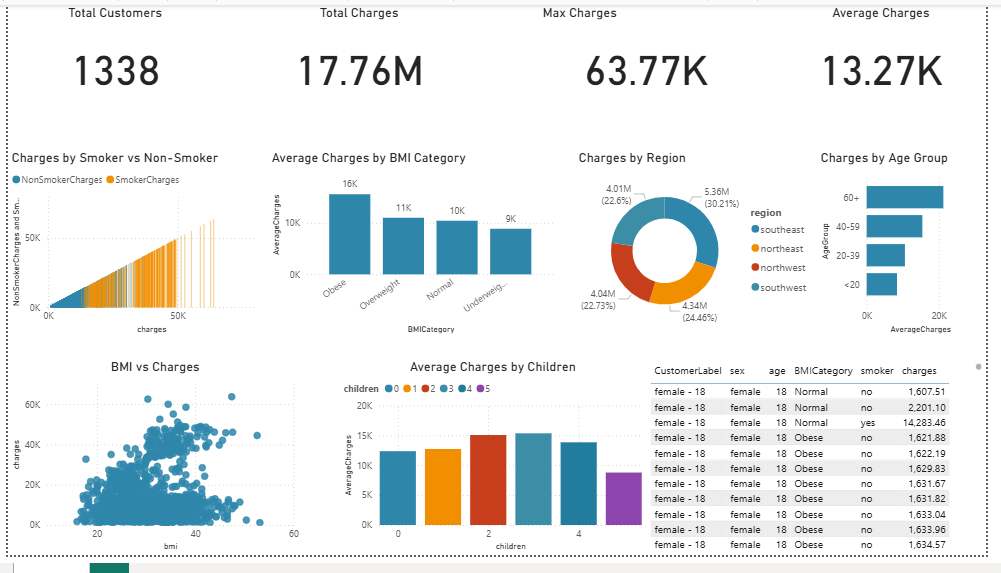

Layout of this report page (visuals, bound fields, positions):
{"tool":"powerbi","page":{"name":"Page 1","canvas":[1280,720],"ordinal":0},"visuals":[{"type":"card","title":"Total Customers","fields":{"Values":["insurance.TotalCustomers"]},"box":[0,0,280.8,139.7],"z":0},{"type":"card","title":"Total Charges","fields":{"Values":["insurance.TotalCharges"]},"box":[318.9,0,280.8,138.2],"z":1000},{"type":"card","title":"Max Charges","fields":{"Values":["insurance.MaxCharges"]},"box":[695.4,0,280.8,139.7],"z":2000},{"type":"card","fields":{"Values":["insurance.smoking"]},"box":[991.3,0,243.4,139.7],"z":3000},{"type":"card","title":"Average Charges","fields":{"Values":["insurance.AverageCharges"]},"box":[1021,0,243.4,139.7],"z":4000},{"type":"clusteredColumnChart","title":"Charges by Smoker vs Non-Smoker","fields":{"Category":["insurance.charges"],"Y":["insurance.NonSmokerCharges","insurance.SmokerCharges"]},"box":[0,190.1,339.8,244.8],"z":5000},{"type":"columnChart","title":"Average Charges by BMI Category","fields":{"Category":["insurance.BMICategory"],"Y":["insurance.AverageCharges"]},"box":[339.8,190.1,380.2,244.8],"z":6000},{"type":"donutChart","title":"Charges by Region","fields":{"Category":["insurance.region"],"Y":["insurance.TotalCharges"]},"box":[741.6,190.1,316.8,244.8],"z":7000},{"type":"barChart","title":"Charges by Age Group","fields":{"Category":["insurance.AgeGroup"],"Y":["insurance.AverageCharges"]},"box":[1058.4,190.1,221.8,244.8],"z":8000},{"type":"scatterChart","title":"BMI vs Charges","fields":{"X":["insurance.bmi"],"Y":["insurance.charges"]},"box":[0,463.7,385.9,256.3],"z":9000},{"type":"columnChart","title":"Average Charges by Children","fields":{"Series":["insurance.children"],"Category":["insurance.children"],"Y":["insurance.AverageCharges"]},"box":[434.9,463.7,400.3,256.3],"z":10000},{"type":"tableEx","fields":{"Values":["insurance.CustomerLabel","insurance.sex","insurance.age","insurance.BMICategory","insurance.smoker","insurance.charges"]},"box":[835.2,463.7,445,256.3],"z":11000}]}

Visuals, with their boxes in screenshot pixels (x1, y1, x2, y2), scaled from the page's 1280x720 canvas onto the 1001x573 screenshot:
"Total Customers" card: <region>0, 0, 220, 111</region>
"Total Charges" card: <region>249, 0, 469, 110</region>
"Max Charges" card: <region>544, 0, 763, 111</region>
card - insurance.smoking: <region>775, 0, 966, 111</region>
"Average Charges" card: <region>798, 0, 989, 111</region>
"Charges by Smoker vs Non-Smoker" clusteredColumnChart: <region>0, 151, 266, 346</region>
"Average Charges by BMI Category" columnChart: <region>266, 151, 563, 346</region>
"Charges by Region" donutChart: <region>580, 151, 828, 346</region>
"Charges by Age Group" barChart: <region>828, 151, 1000, 346</region>
"BMI vs Charges" scatterChart: <region>0, 369, 302, 572</region>
"Average Charges by Children" columnChart: <region>340, 369, 653, 572</region>
tableEx - insurance.CustomerLabel x insurance.sex: <region>653, 369, 1000, 572</region>
